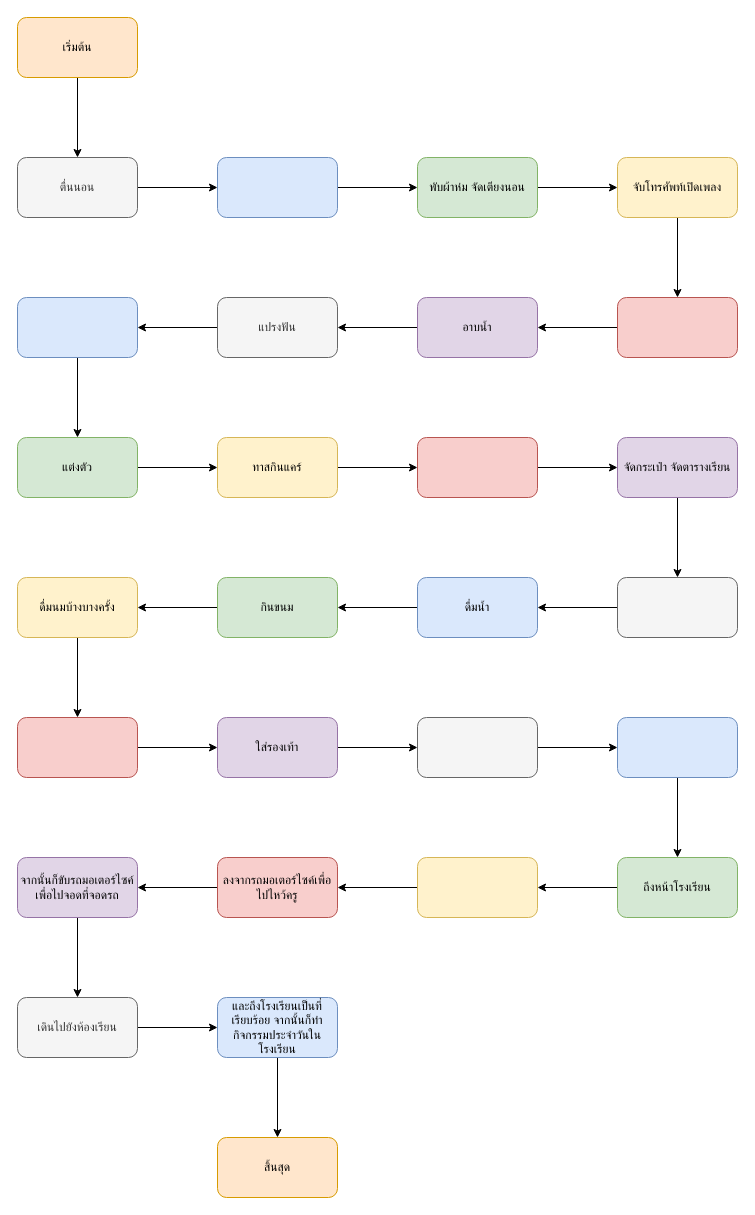
Some shapes in this 755 by 1215 pixel diagram are drawn without their labels. The shapes that lost their labels are listed below. From the top down, each one's centre as x and y in pixels, then its label:
At pixel 277 187: "ลุกจากที่นอน".
At pixel 77 327: "เช็ดตัว".
At pixel 677 327: "เข้าห้องน้ำ".
At pixel 477 467: "หวีผม มัดผม".
At pixel 677 607: "กินข้าว".
At pixel 77 747: "เตรียมพร้อมไปโรงเรียน".
At pixel 477 747: "ขับรถมอเตอร์ไซค์ออกจากบ้าน".
At pixel 677 747: "ระหว่างทางจะมีน้ำตก สถานที่ต่างๆ อย่างเช่น ป้อมตำรวจ ร้านค้า สวนสาธารณะ".
At pixel 477 887: "มีครูคอยยืนต้อนรับ".
